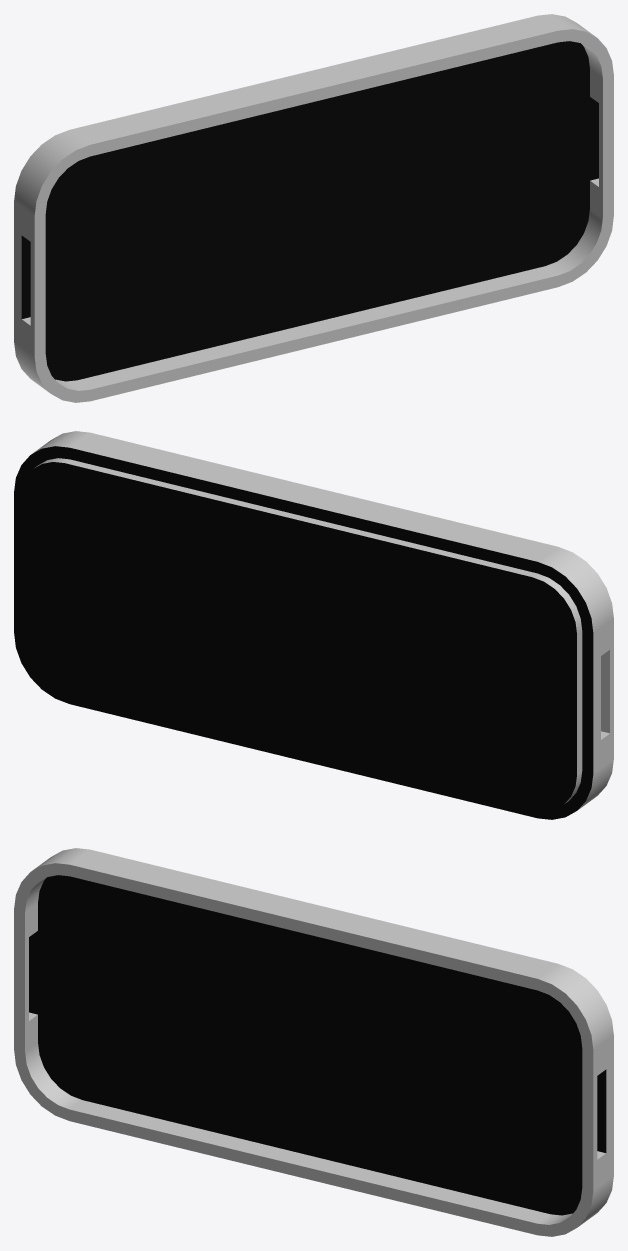
Rendered from table.dae.
3 renders of one model, top to bottom at view 1: azimuth 30°, elevation 25°; view 2: azimuth 150°, elevation 25°; view 3: azimuth 330°, elevation 25°, orthographic.
Parts seen in each view (by area): view 1: AirHockey; view 2: AirHockey; view 3: AirHockey.
Part boxes in pixels (x1,y1,x2,y2): AirHockey: (14, 14, 613, 402); AirHockey: (14, 431, 613, 819); AirHockey: (14, 848, 613, 1236).
Size of the model in its own units: 130 by 10 by 55.
2 materials, 2 textured.
